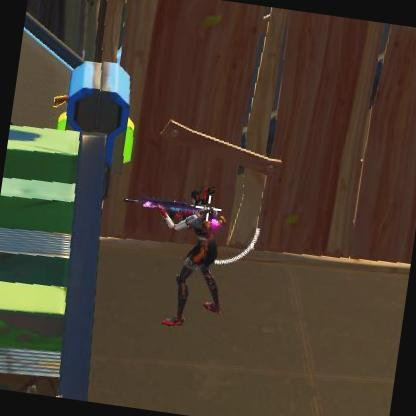person: (136, 199, 235, 328)
